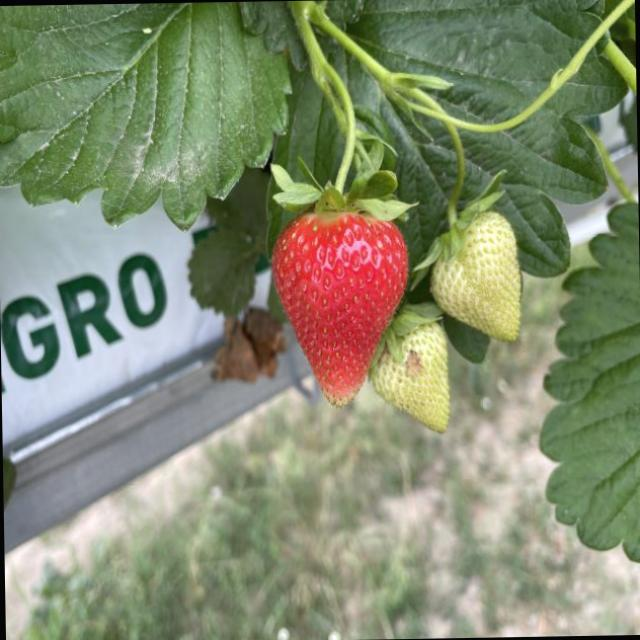stem: (275, 1, 413, 219), (419, 101, 501, 268)
strawberryNR: (431, 213, 517, 341), (371, 323, 449, 432)
strawberryR: (273, 212, 406, 403)
